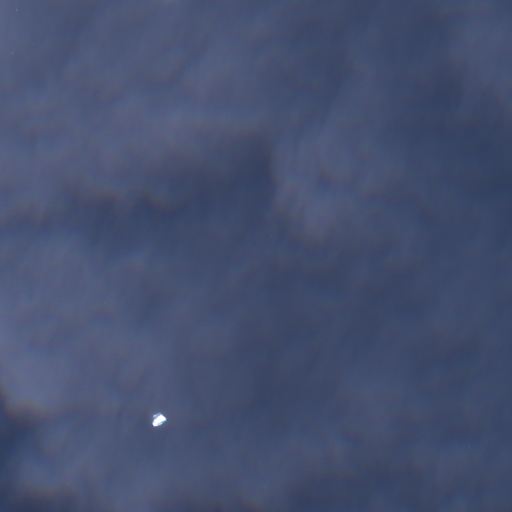Iceberg: (151, 412, 166, 426)
